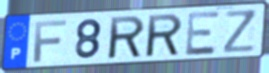8: (74, 18, 103, 61)
E: (184, 9, 222, 57)
F: (32, 18, 69, 64)
R: (108, 14, 147, 61), (146, 12, 185, 59)
Z: (223, 8, 258, 55)
